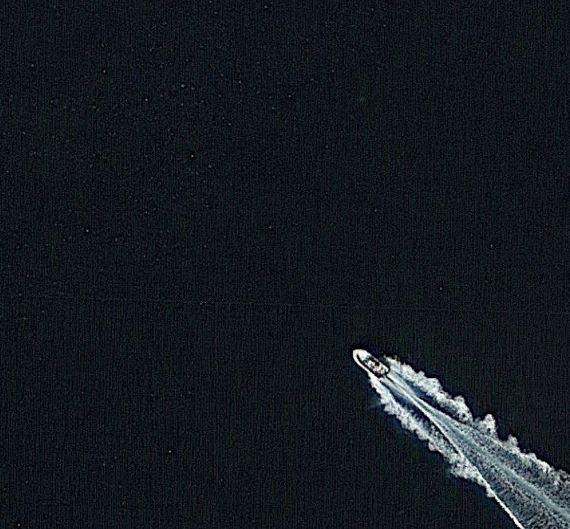boat: (348, 342, 394, 383)
